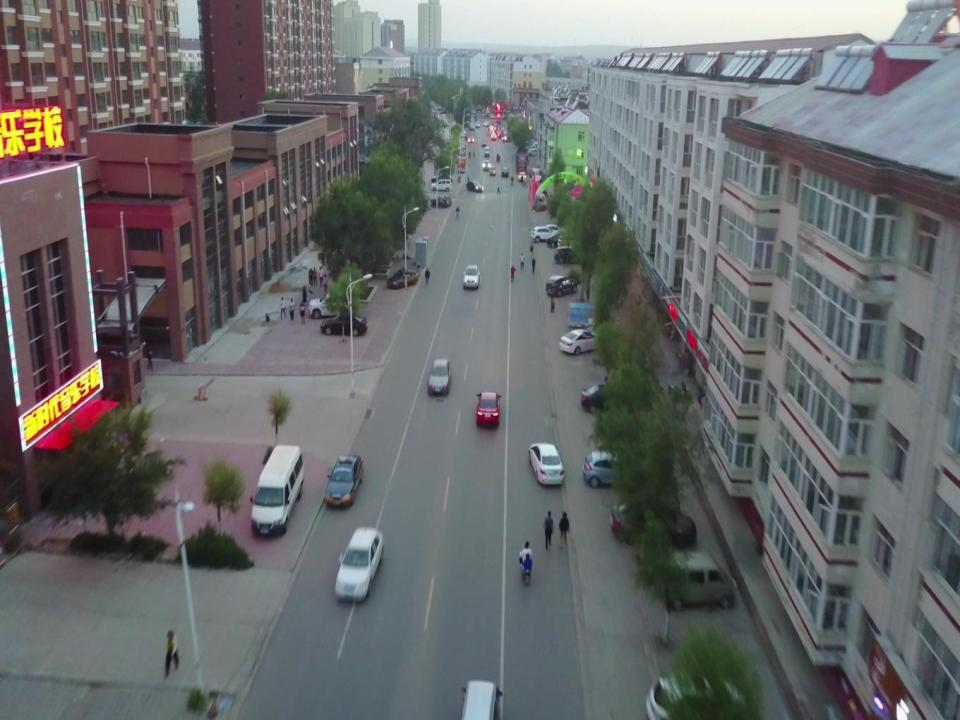car: (644, 672, 752, 720), (610, 500, 697, 548), (334, 526, 384, 602), (582, 451, 644, 488), (324, 454, 363, 506), (581, 383, 635, 414), (527, 442, 564, 486), (559, 328, 609, 355), (308, 291, 354, 319), (320, 312, 368, 336), (475, 390, 502, 426), (426, 358, 452, 395), (546, 274, 578, 298), (386, 268, 419, 290), (554, 244, 587, 264), (531, 226, 562, 243), (546, 232, 576, 248), (462, 264, 481, 289), (540, 223, 568, 236), (466, 181, 483, 192), (529, 167, 539, 178), (518, 172, 527, 182), (501, 167, 509, 177), (482, 160, 490, 170), (489, 166, 496, 176), (481, 139, 487, 147), (468, 136, 474, 143), (483, 121, 490, 127), (469, 125, 475, 131), (475, 121, 480, 128)
truck: (515, 150, 529, 174)
van: (250, 445, 304, 535), (662, 550, 736, 612), (458, 679, 500, 720), (430, 179, 452, 191), (531, 168, 543, 182), (483, 146, 490, 157)
